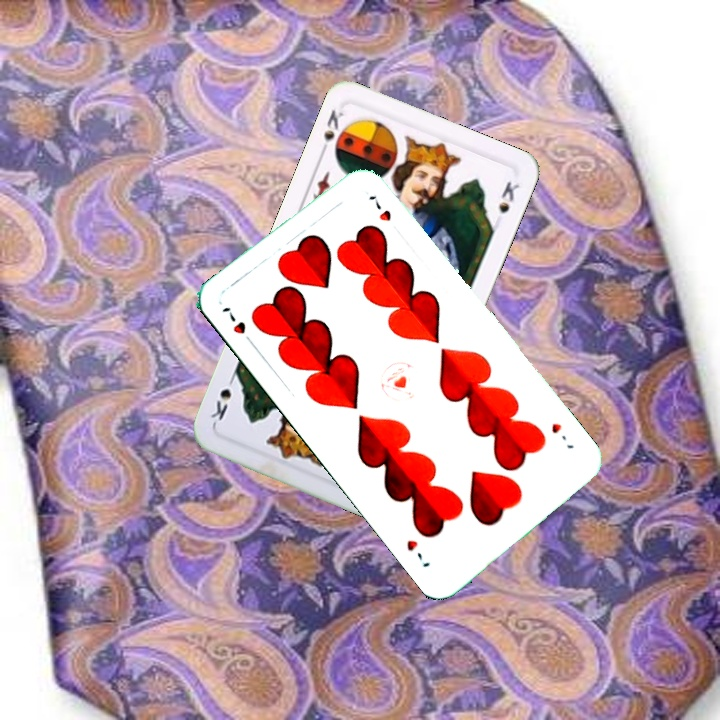H7: (218, 302, 259, 350), (547, 419, 577, 452)
SK: (315, 105, 346, 159)
